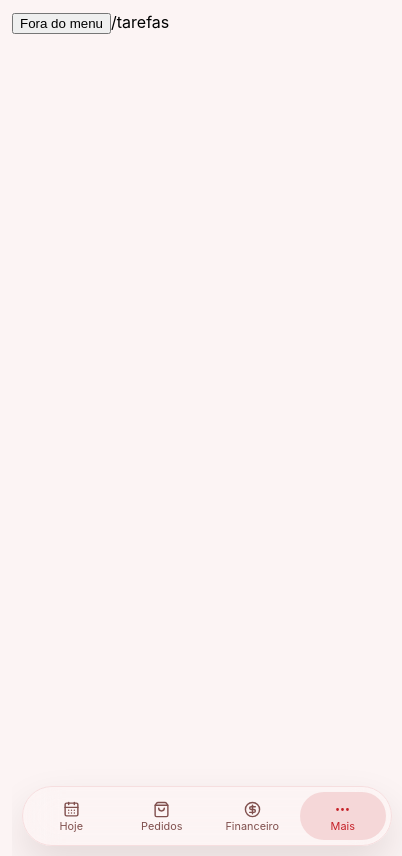
MobilePrimaryNavigation interactions › marks only the matching destination current while the Mais panel is open
Click the button with aria-label "Mais opções de navegação": (343, 816) [300, 792, 386, 840]
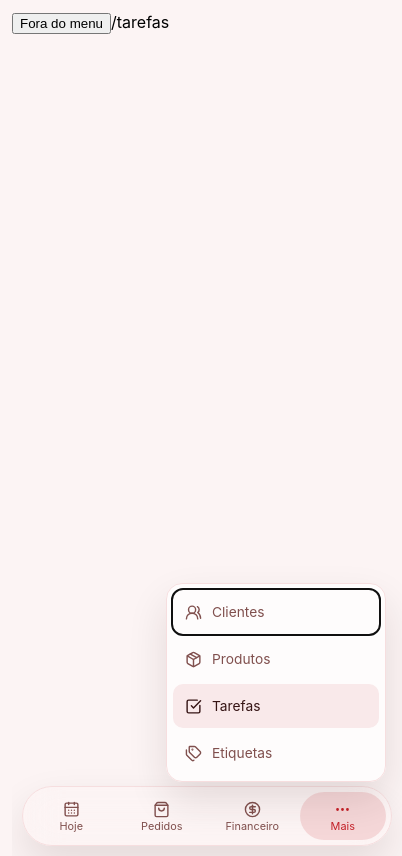
Now the link "Tarefas" is shown, box [173, 684, 379, 728]
